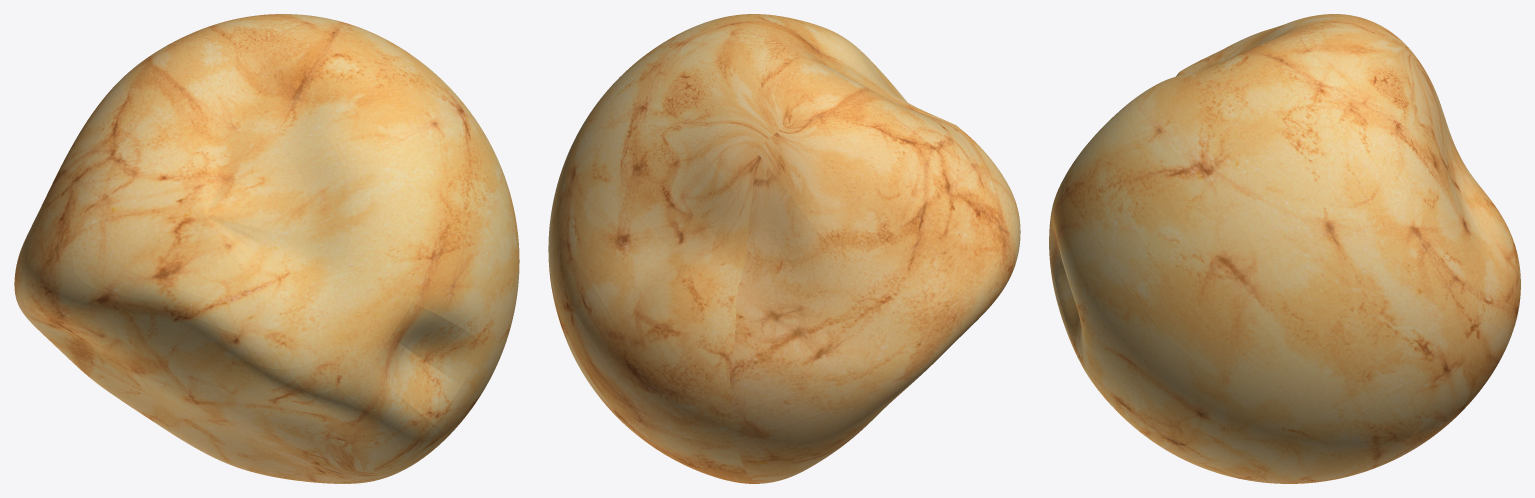
File: Asteroid_3-3.fbx
3 views of the same model, side by side, from view 1: azimuth 30°, elevation 25°; view 2: azimuth 150°, elevation 25°; view 3: azimuth 270°, elevation 25° (orthographic). The views are drawn at different scales.
Visible parts, largest first — view 1: Asteroid_3-3; view 2: Asteroid_3-3; view 3: Asteroid_3-3.
Boxes of the visible parts, x1,y1,x2,y2 form: Asteroid_3-3: (14, 14, 519, 483); Asteroid_3-3: (548, 14, 1020, 483); Asteroid_3-3: (1049, 14, 1520, 483).
Size of the model in its own units: 2.02 by 1.91 by 1.92.
Materials: 1 (1 with a texture image).
